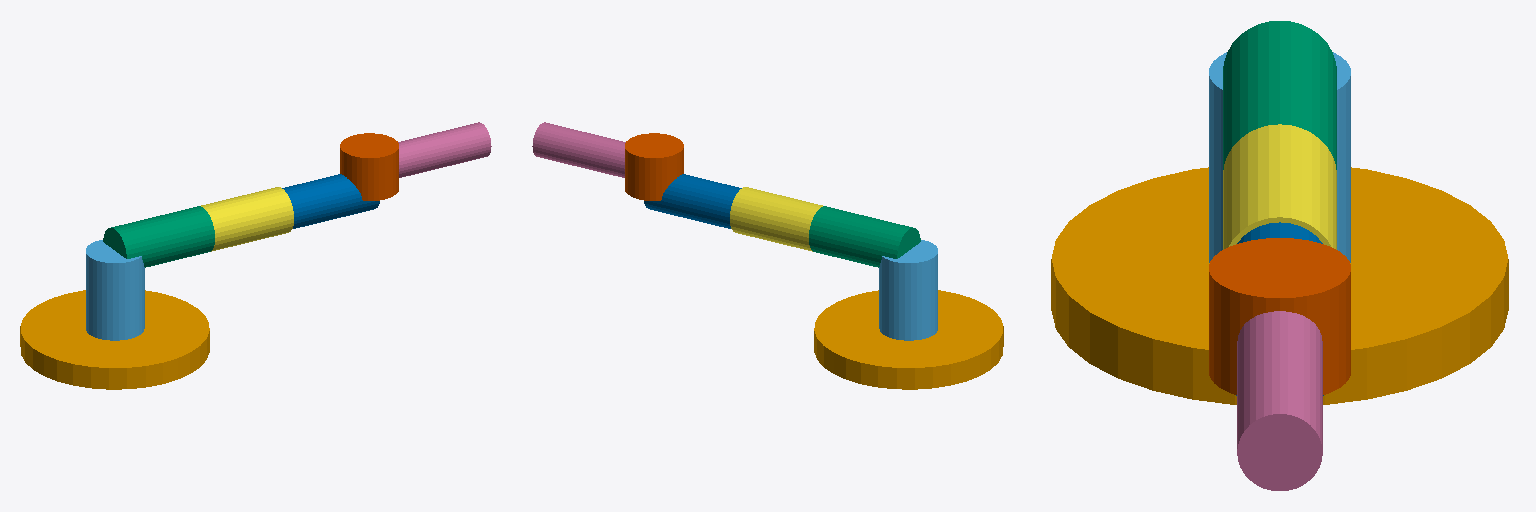
URDF robot description (Dexter_ER2):
<?xml version="1.0"?>
<robot name="Dexter_ER2">

  <!-- ================= BASE ================= -->
  <link name="base_link">
    <visual>
      <geometry>
        <cylinder length="0.02" radius="0.08"/>
      </geometry>
    </visual>
  </link>

  <!-- ================= LINK 1 ================= -->
  <link name="link1">
    <visual>
      <geometry>
        <cylinder length="0.082" radius="0.025"/>
      </geometry>
      <origin xyz="0 0 0.041"/>
    </visual>
  </link>

  <joint name="joint1" type="revolute">
    <parent link="base_link"/>
    <child link="link1"/>
    <origin xyz="0 0 0"/>
    <axis xyz="0 0 1"/>
    <limit lower="-3.14" upper="3.14" effort="10" velocity="1"/>
  </joint>

  <!-- ================= LINK 2 ================= -->
  <link name="link2">
    <visual>
      <geometry>
        <cylinder length="0.086" radius="0.02"/>
      </geometry>
      <!-- rotate cylinder to lie along X -->
      <origin xyz="0.043 0 0" rpy="0 1.5708 0"/>
    </visual>
  </link>

  <joint name="joint2" type="revolute">
    <parent link="link1"/>
    <child link="link2"/>
    <origin xyz="0 0 0.082"/>
    <axis xyz="0 1 0"/>
    <limit lower="-1.57" upper="1.57" effort="10" velocity="1"/>
  </joint>

  <!-- ================= LINK 3 ================= -->
  <link name="link3">
    <visual>
      <geometry>
        <cylinder length="0.077" radius="0.02"/>
      </geometry>
      <origin xyz="0.0385 0 0" rpy="0 1.5708 0"/>
    </visual>
  </link>

  <joint name="joint3" type="revolute">
    <parent link="link2"/>
    <child link="link3"/>
    <origin xyz="0.086 0 0"/>
    <axis xyz="0 1 0"/>
    <limit lower="-1.57" upper="1.57" effort="10" velocity="1"/>
  </joint>

  <!-- ================= LINK 4 ================= -->
  <link name="link4">
    <visual>
      <geometry>
        <cylinder length="0.085" radius="0.018"/>
      </geometry>
      <origin xyz="0.0425 0 0" rpy="0 1.5708 0"/>
    </visual>
  </link>

  <joint name="joint4" type="revolute">
    <parent link="link3"/>
    <child link="link4"/>
    <origin xyz="0.077 0 0"/>
    <axis xyz="0 1 0"/>
    <limit lower="-3.14" upper="3.14" effort="5" velocity="1"/>
  </joint>

  <!-- ================= LINK 5 (WRIST) ================= -->
  <link name="link5">
    <visual>
      <geometry>
        <cylinder length="0.04" radius="0.025"/>
      </geometry>
      <origin xyz="0 0 0.02"/>
    </visual>
  </link>

  <joint name="joint5" type="revolute">
    <parent link="link4"/>
    <child link="link5"/>
    <origin xyz="0.085 0 0"/>
    <axis xyz="0 0 1"/>
  </joint>

  <!-- ================= END EFFECTOR ================= -->
  <link name="ee_link">
    <visual>
      <geometry>
        <cylinder length="0.11" radius="0.015"/>
      </geometry>
      <origin xyz="0.055 0 0" rpy="0 1.5708 0"/>
    </visual>
  </link>

  <joint name="ee_fixed" type="fixed">
    <parent link="link5"/>
    <child link="ee_link"/>
    <origin xyz="0 0 0.02"/>
  </joint>

</robot>

--- Facts derived from the render (not from the file) ---
Views: 3 orthographic renders of the robot side by side, from view 1: azimuth 30°, elevation 25°; view 2: azimuth 150°, elevation 25°; view 3: azimuth 270°, elevation 25°.
Robot: Dexter_ER2 — 7 links, 6 joints (5 revolute, 1 fixed); root link base_link; default pose: all joints at 0.
Links seen in each view (by area): view 1: base_link, link1, link2, link3, link5, ee_link, link4; view 2: base_link, link1, link2, link3, link5, ee_link, link4; view 3: base_link, link5, ee_link, link2, link3, link1, link4.
Boxes of the visible links, x1,y1,x2,y2 form: base_link: (20,290,209,389); link1: (86,240,144,340); link2: (103,206,214,267); link3: (201,187,293,251); link5: (340,133,398,200); ee_link: (398,122,491,177); link4: (282,174,379,228); base_link: (814,290,1003,389); link1: (879,240,937,340); link2: (809,206,920,267); link3: (730,187,822,251); link5: (625,133,683,200); ee_link: (532,122,625,177); link4: (644,174,741,228); base_link: (1051,167,1508,404); link5: (1209,238,1350,394); ee_link: (1237,311,1322,490); link2: (1223,21,1336,169); link3: (1223,124,1336,249); link1: (1209,52,1350,262); link4: (1236,222,1323,395).
Size in the robot's own frame: 0.438 by 0.16 by 0.132 metres.
Geometry: primitives only (box / cylinder / sphere), no mesh files.
